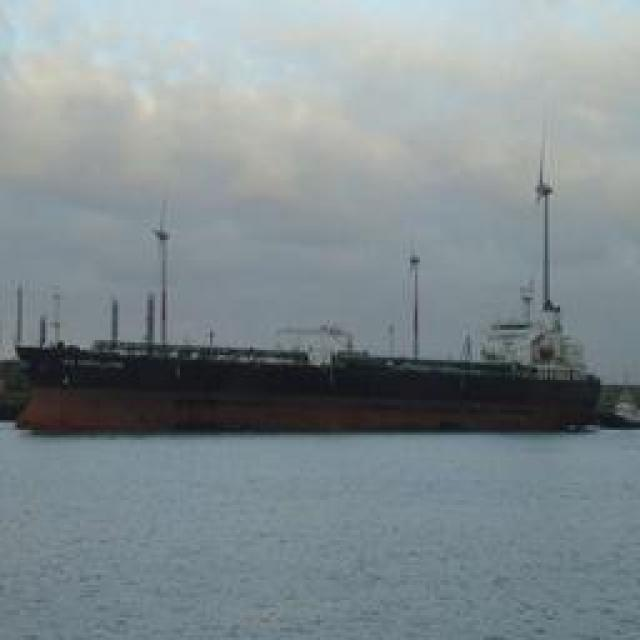CIV_Ship: (8, 351, 608, 434)
